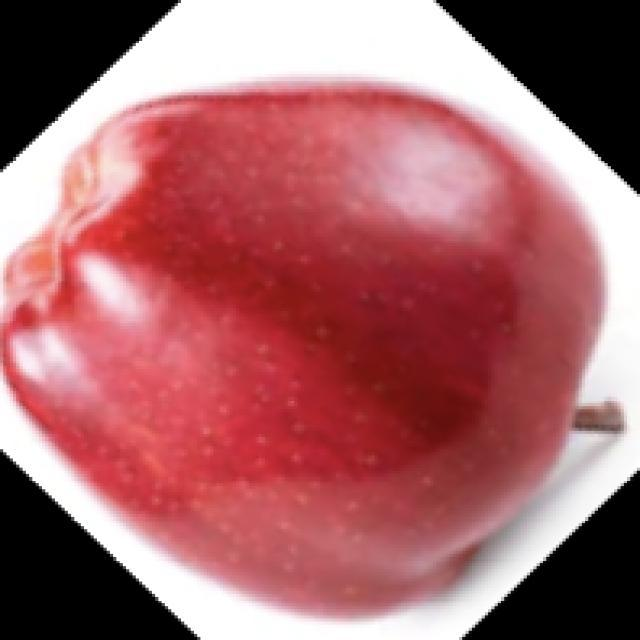Fresh Apple: (34, 111, 634, 606)
